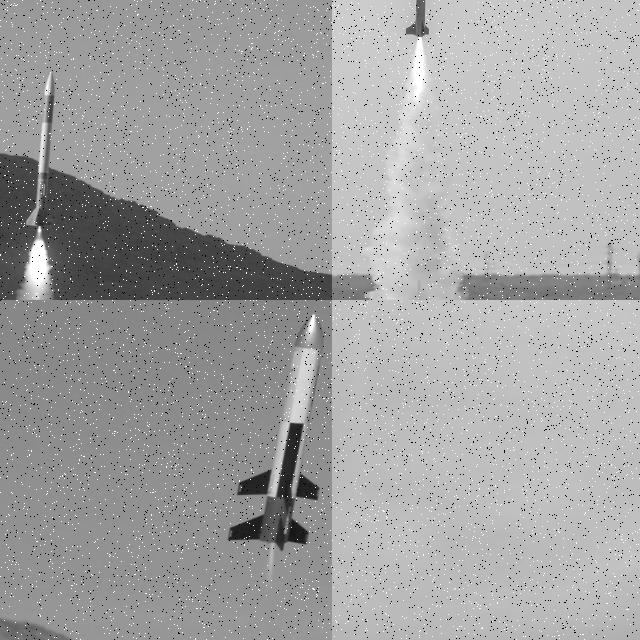Rocket: (226, 313, 326, 552), (24, 70, 56, 230), (405, 0, 431, 38)
